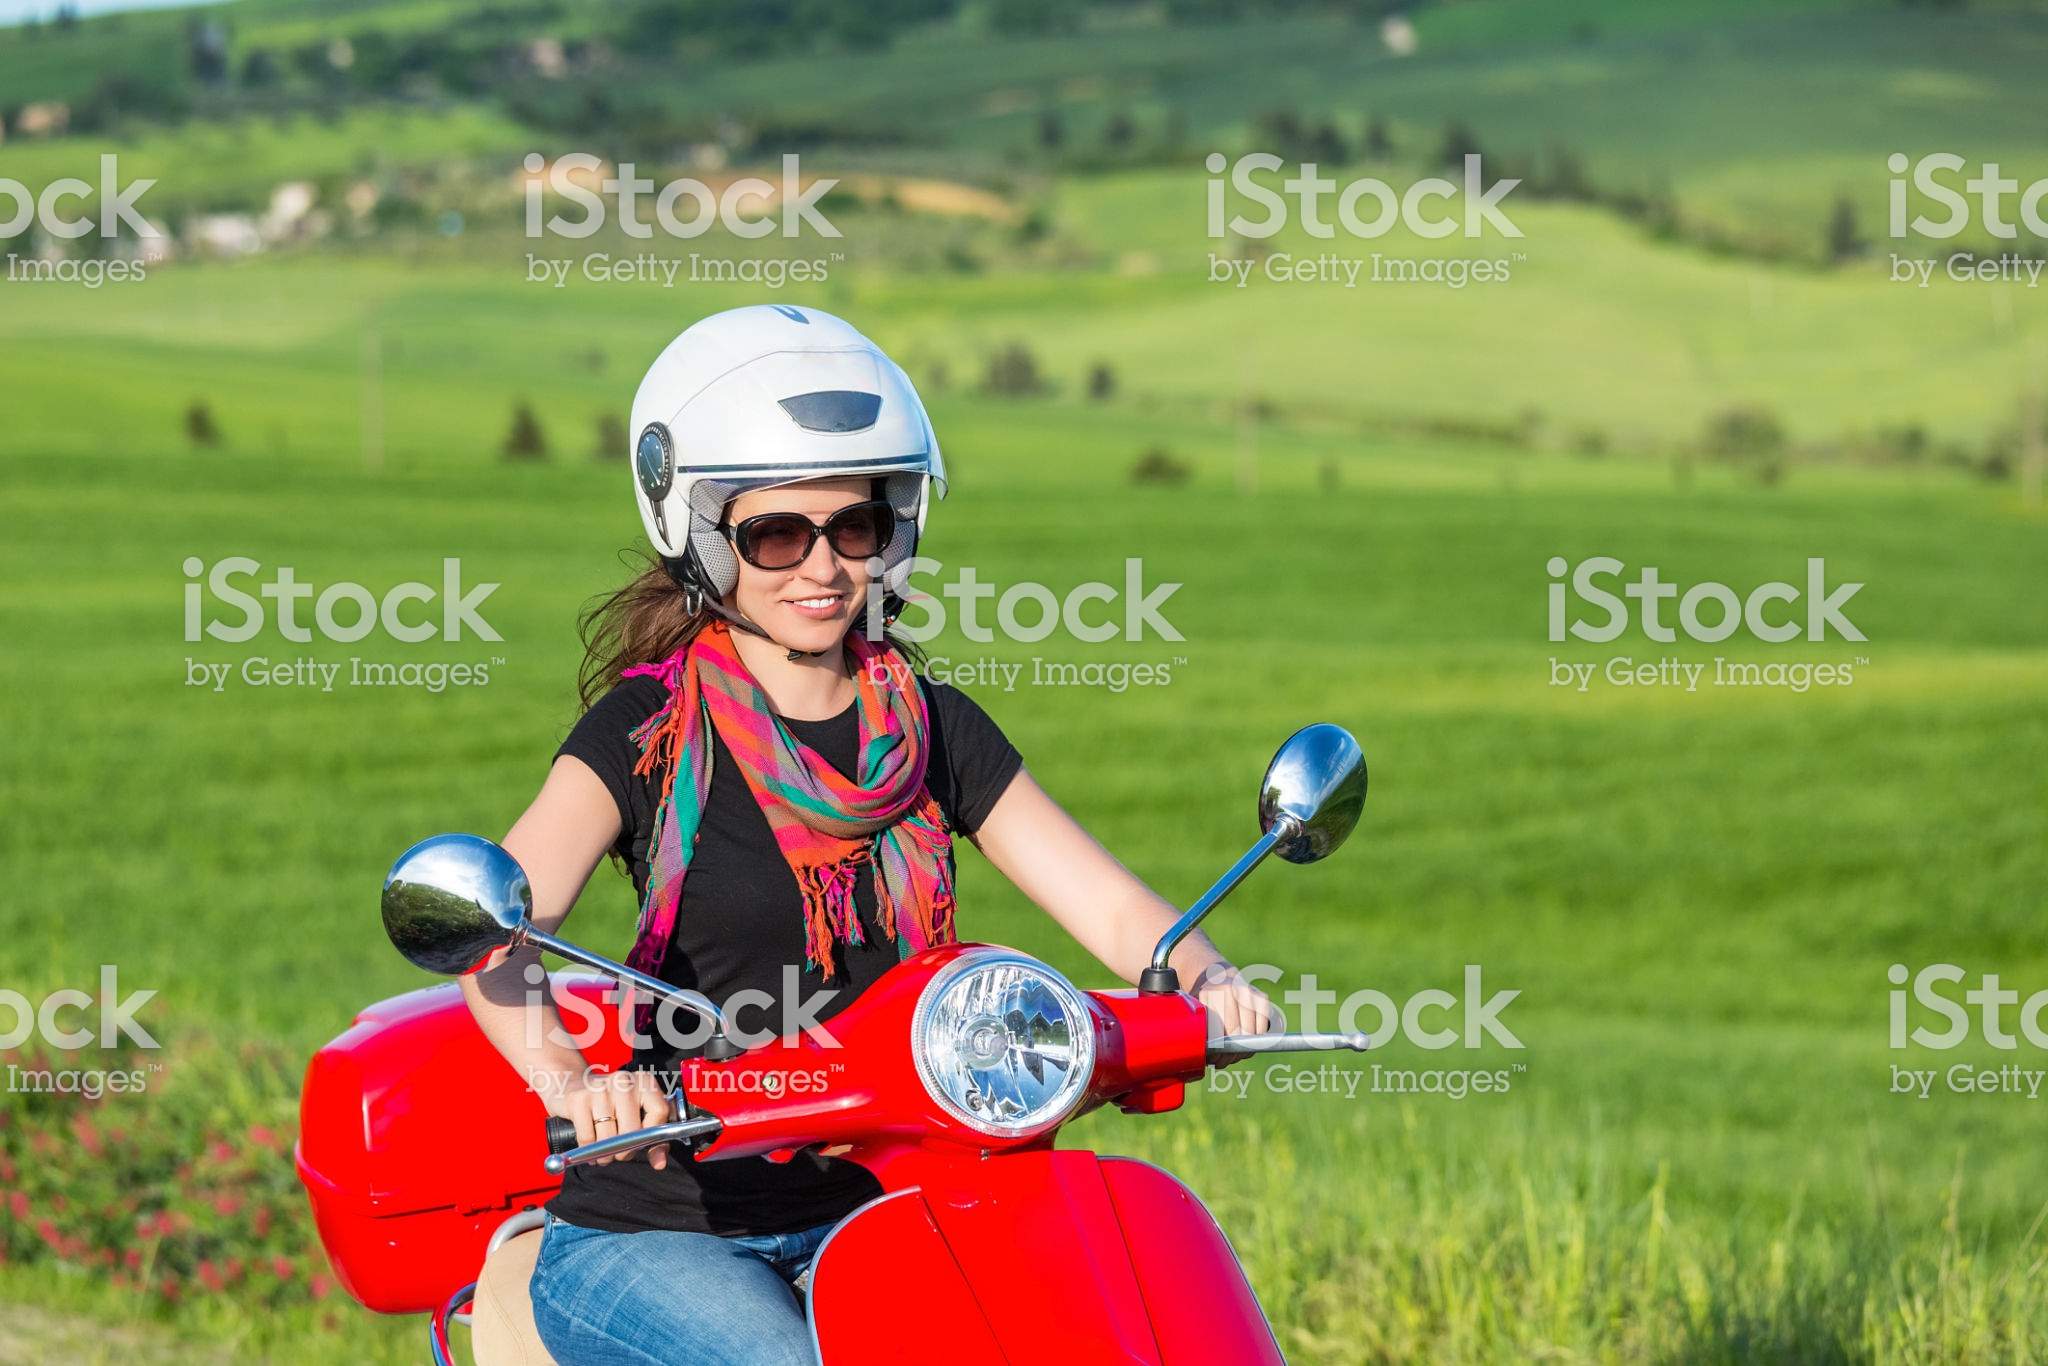helmet: (603, 302, 974, 575)
